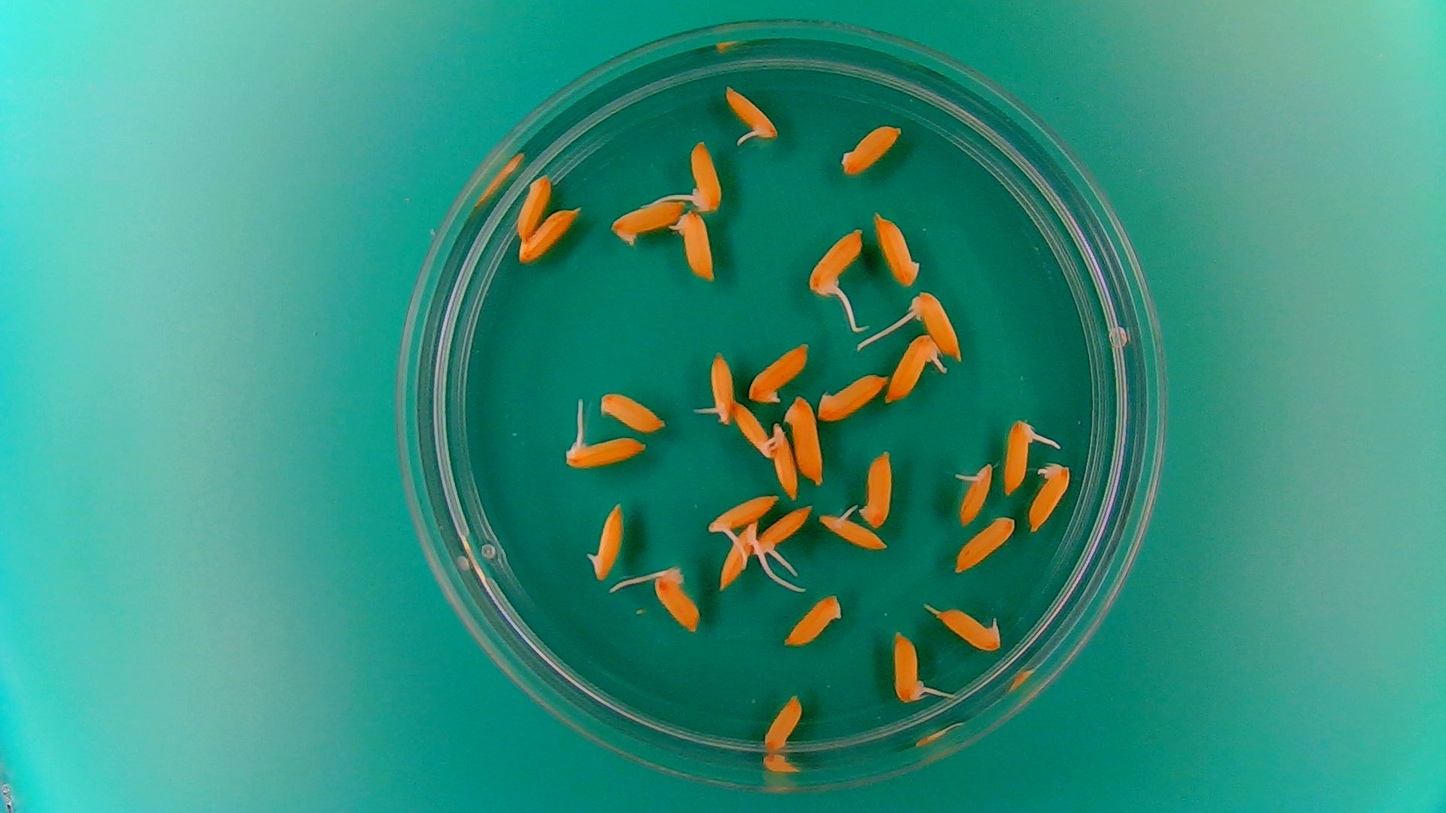no: (607, 193, 685, 248), (746, 338, 811, 403), (872, 209, 924, 288), (837, 119, 905, 178), (785, 391, 826, 487), (516, 206, 582, 264), (954, 514, 1017, 574), (822, 371, 893, 423), (786, 592, 847, 649), (593, 388, 667, 434), (858, 446, 895, 531), (512, 171, 554, 245), (761, 692, 804, 753), (770, 422, 800, 501)
yes: (903, 287, 963, 358), (805, 224, 865, 293), (886, 333, 943, 405), (722, 81, 780, 144), (671, 209, 718, 285), (1027, 459, 1072, 534), (817, 505, 890, 551), (933, 607, 1005, 653), (653, 570, 706, 630), (682, 138, 723, 215), (752, 502, 813, 553), (717, 521, 759, 592), (953, 458, 993, 528), (706, 496, 779, 534), (999, 418, 1036, 492), (587, 507, 624, 580), (566, 437, 643, 471), (731, 400, 773, 461), (706, 349, 737, 428), (892, 633, 920, 702)
